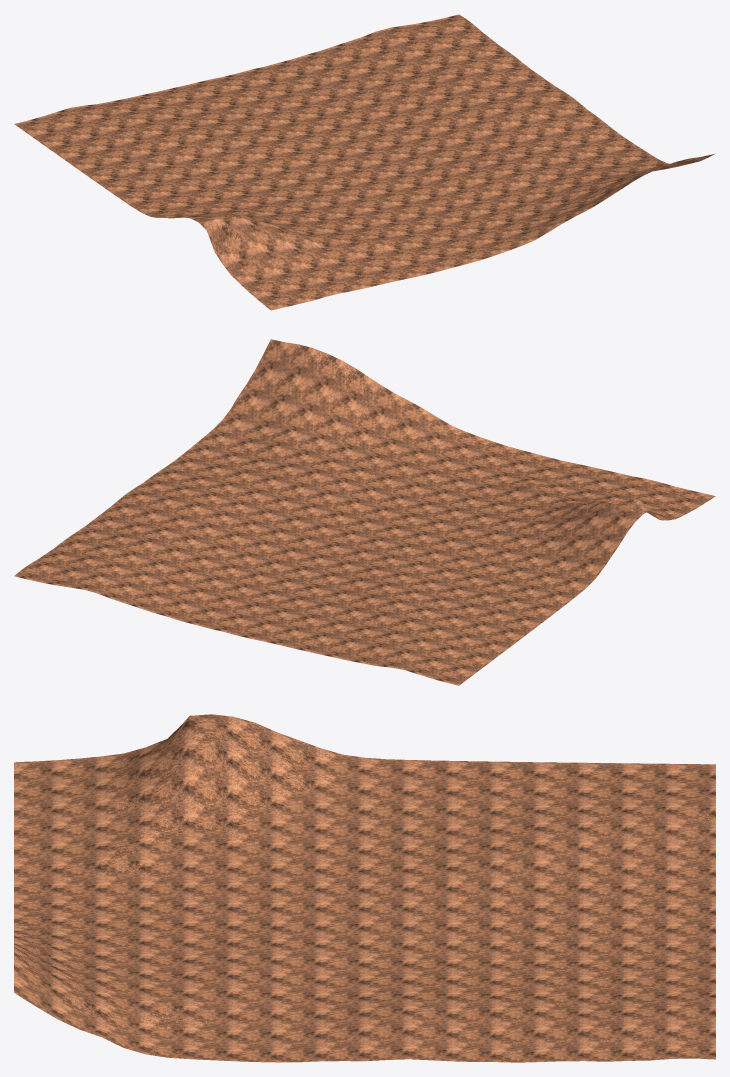
File: terrain_09_04.dae
The picture shows the model from 3 angles, top to bottom: view 1: azimuth 30°, elevation 25°; view 2: azimuth 150°, elevation 25°; view 3: azimuth 270°, elevation 25°; orthographic projection. The views are drawn at different scales.
Parts seen in each view (by area): view 1: terrain_09_04-node; view 2: terrain_09_04-node; view 3: terrain_09_04-node.
Boxes of the visible parts, x1,y1,x2,y2 form: terrain_09_04-node: (14,14,715,310); terrain_09_04-node: (14,339,715,685); terrain_09_04-node: (14,714,715,1062).
Bounding box in the file's own units: 128 × 128 × 15.26.
1 material, 1 textured.
